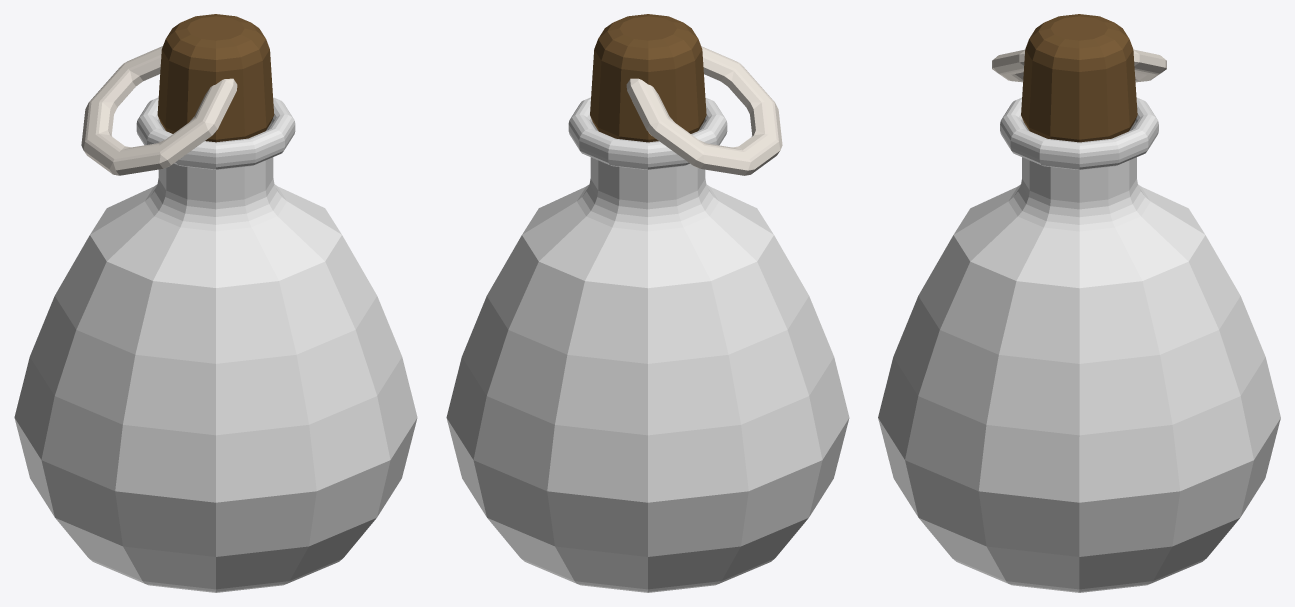
Rendered from Flask.fbx.
3 renders of one model, left to right at view 1: azimuth 30°, elevation 25°; view 2: azimuth 150°, elevation 25°; view 3: azimuth 270°, elevation 25°, orthographic.
Parts seen in each view (by area): view 1: Cylinder, Cylinder.001; view 2: Cylinder, Cylinder.001; view 3: Cylinder, Cylinder.001.
Boxes of the visible parts, x1=… form: Cylinder: x1=14, y1=97, x2=417, y2=592; Cylinder.001: x1=81, y1=14, x2=274, y2=175; Cylinder: x1=446, y1=97, x2=849, y2=592; Cylinder.001: x1=590, y1=14, x2=782, y2=175; Cylinder: x1=878, y1=97, x2=1280, y2=592; Cylinder.001: x1=992, y1=14, x2=1166, y2=142.
Bounding box in the file's own units: 200 × 280 × 200.
